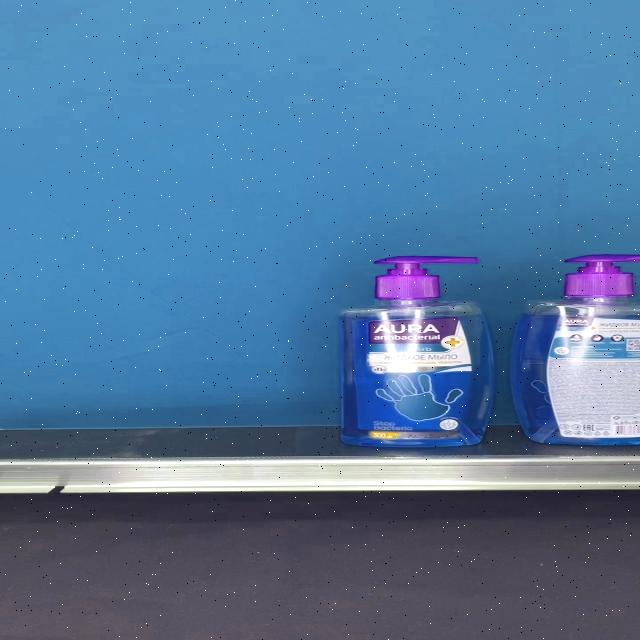Bottle: (338, 256, 492, 448), (509, 254, 640, 446)
Cap: (373, 256, 478, 300), (564, 254, 640, 296)
